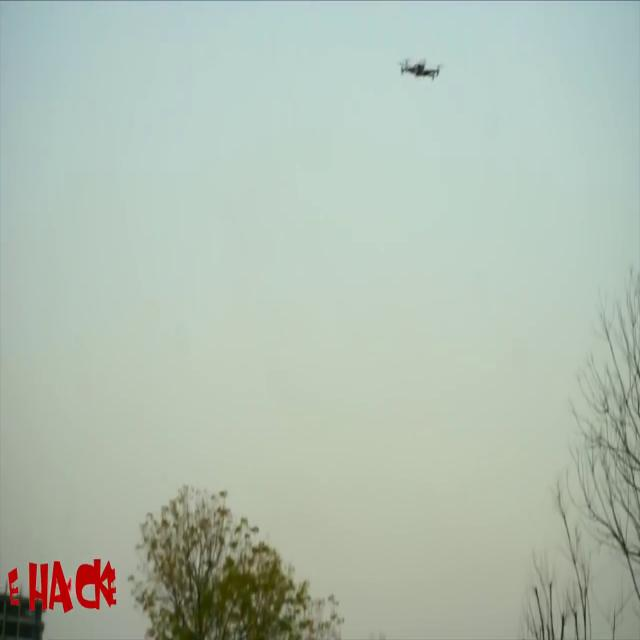drone: (378, 28, 447, 96)
